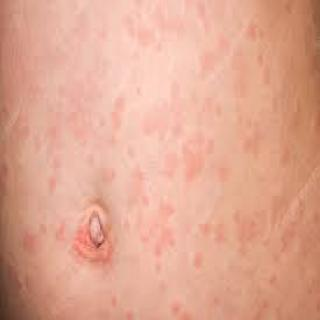urticaria: (61, 184, 139, 279), (229, 15, 284, 93), (276, 203, 319, 296), (230, 122, 287, 158), (173, 137, 213, 184), (184, 211, 215, 271), (233, 207, 267, 252)
